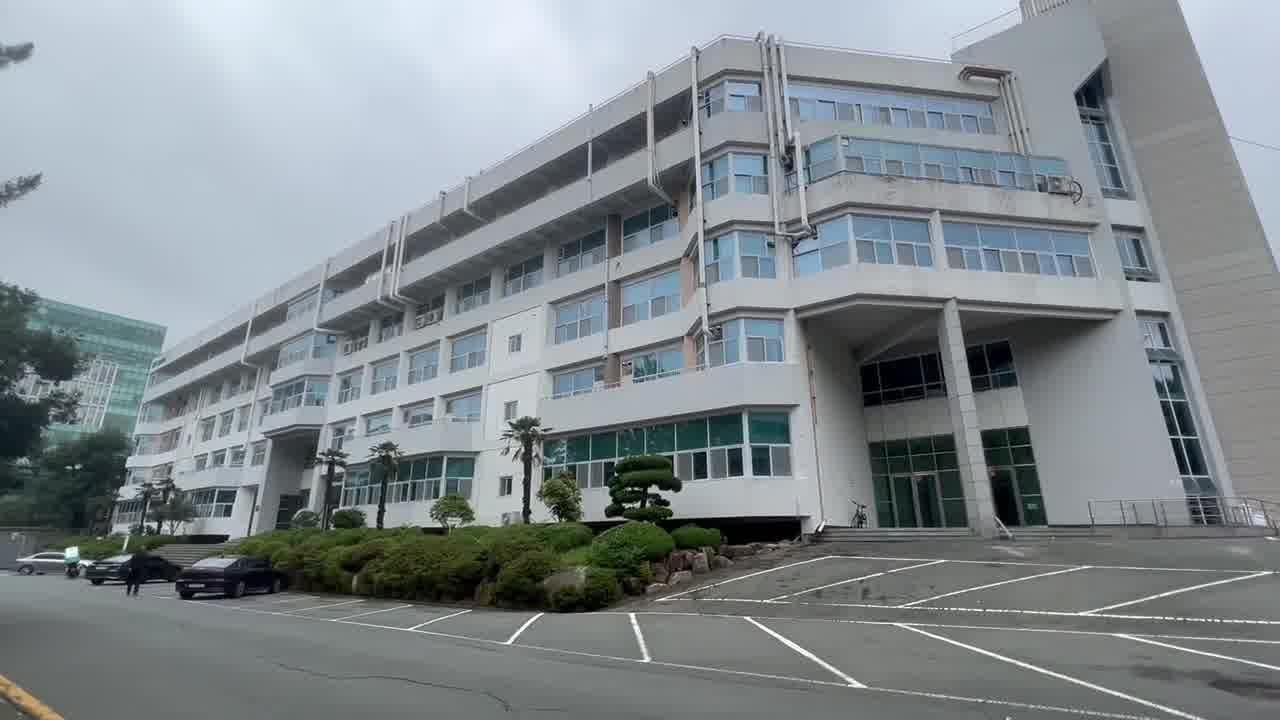building: (151, 44, 1280, 521)
